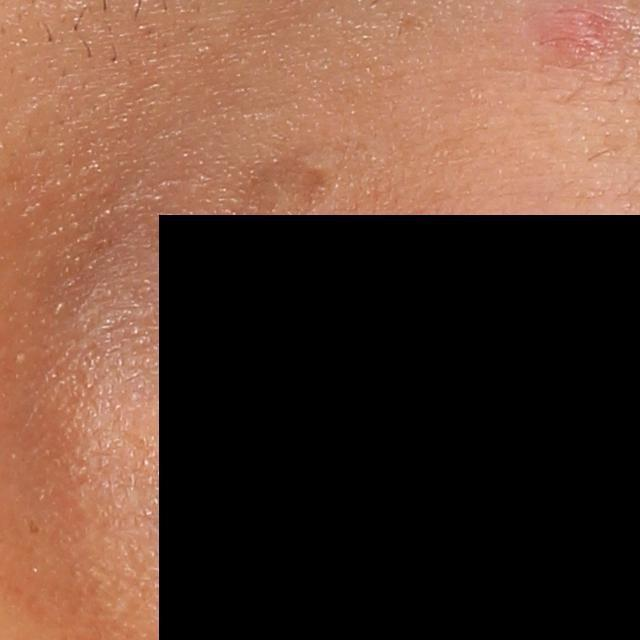melasma: (214, 151, 341, 267), (27, 519, 42, 537)
